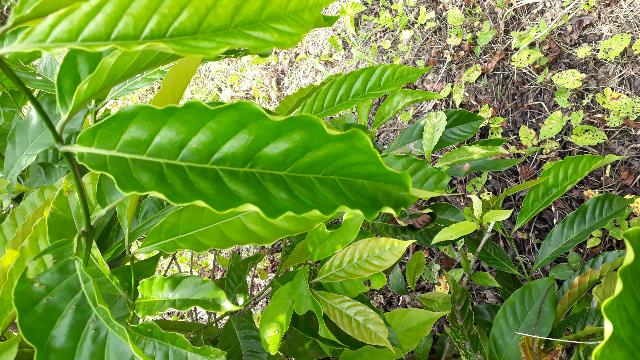healthy: (76, 100, 453, 222)
